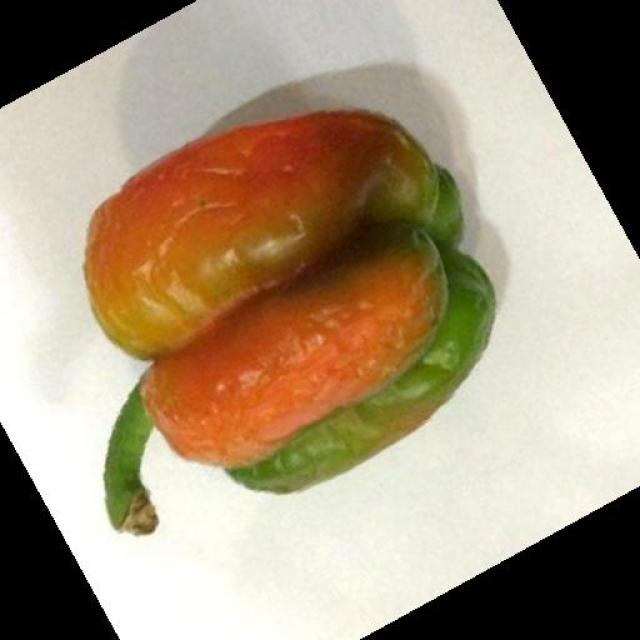Stale_Capsicum: (46, 131, 525, 482)
